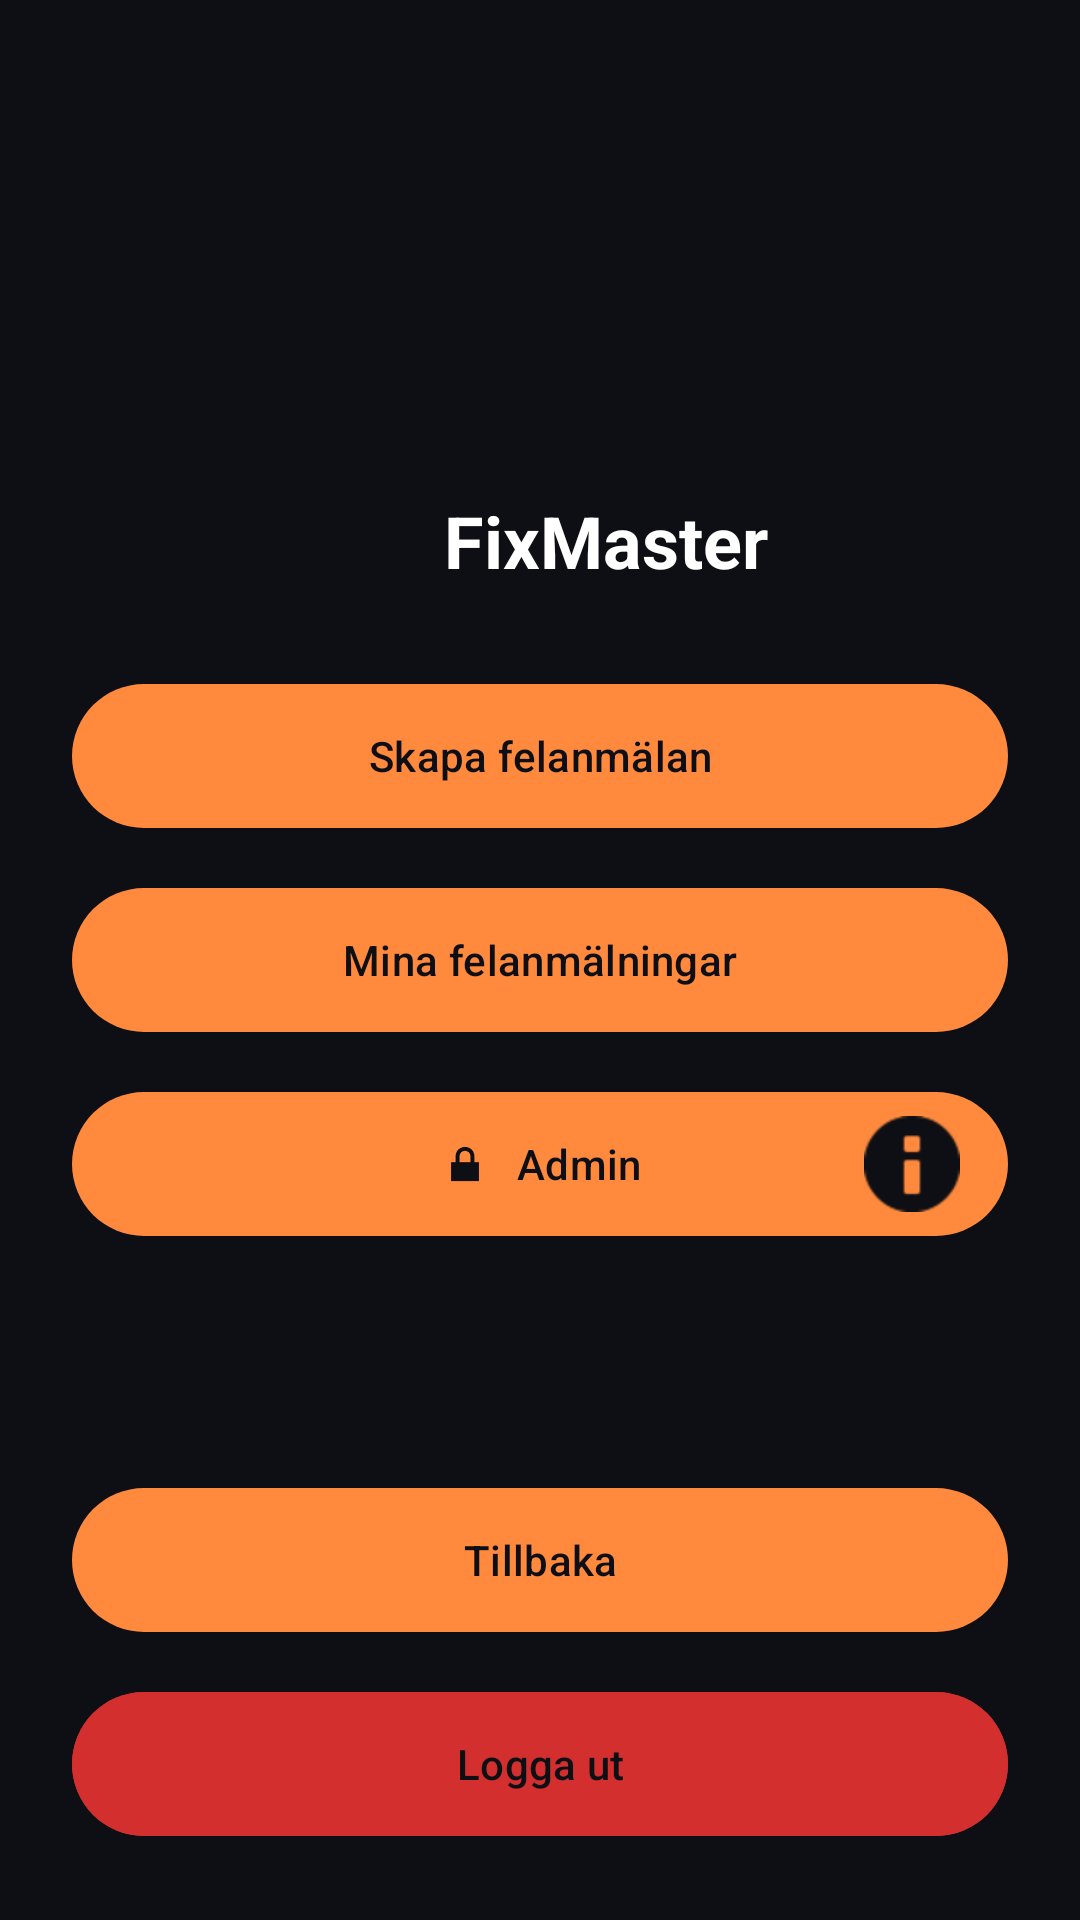

Named icons in this screenshot (1080*1920) and their centers, (x=x, y=y):
info: (x=912, y=1164)
